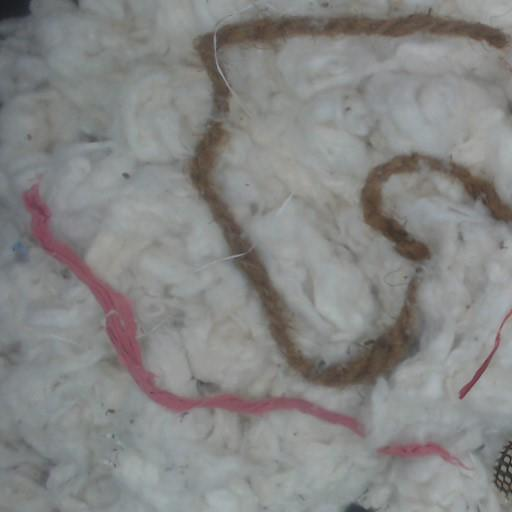cloth: (23, 185, 363, 434), (460, 308, 511, 398), (379, 443, 467, 469), (494, 441, 511, 495)
cotton: (0, 0, 511, 511)
jute: (190, 14, 508, 386), (361, 153, 511, 263)
thread: (212, 3, 269, 95), (196, 245, 253, 270), (264, 193, 293, 215)
